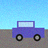vehicle: (12, 21, 44, 41)
